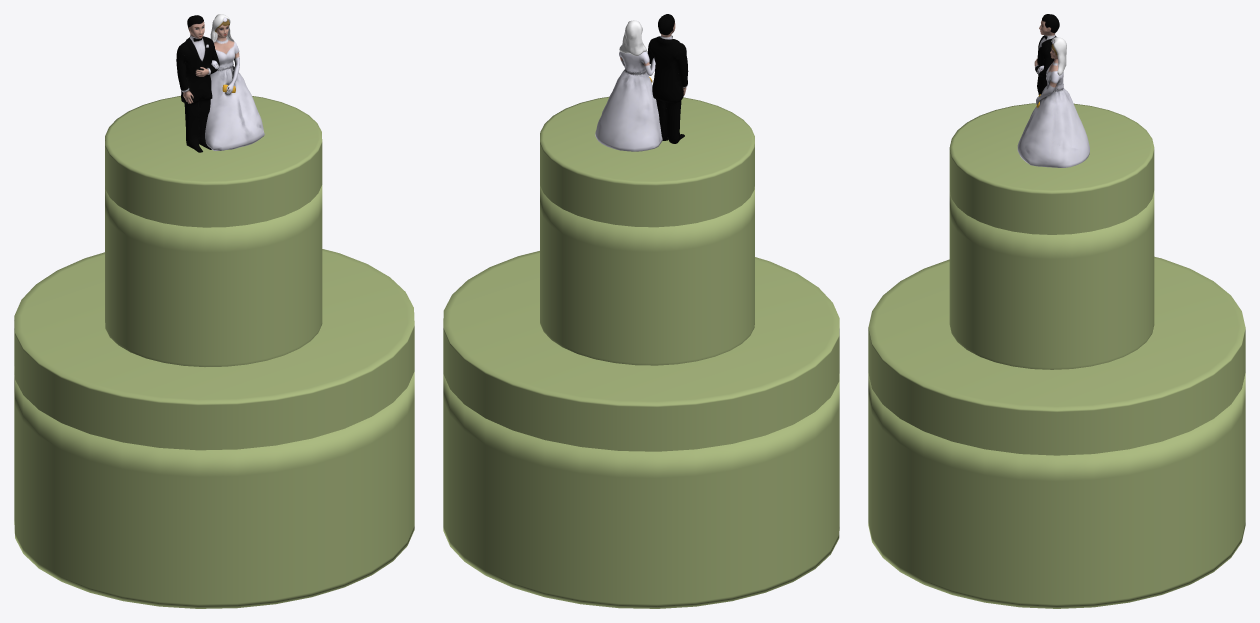
The model's file is 2-tier-pistage-none-bridegroom.glb.
The picture shows the model from 3 angles, left to right: view 1: azimuth 30°, elevation 25°; view 2: azimuth 150°, elevation 25°; view 3: azimuth 270°, elevation 25°; orthographic projection. The views are drawn at different scales.
Visible parts, largest first — view 1: Cylinder.023, Cylinder.013, 13501_Cake_Topper_Bride_Groom_v1_L1.003; view 2: Cylinder.023, Cylinder.013, 13501_Cake_Topper_Bride_Groom_v1_L1.003; view 3: Cylinder.023, Cylinder.013, 13501_Cake_Topper_Bride_Groom_v1_L1.003.
Part boxes in pixels (x1,y1,x2,y2): Cylinder.023: (14,249,414,608); Cylinder.013: (105,96,322,366); 13501_Cake_Topper_Bride_Groom_v1_L1.003: (176,14,264,152); Cylinder.023: (443,251,839,608); Cylinder.013: (540,97,754,365); 13501_Cake_Topper_Bride_Groom_v1_L1.003: (595,14,688,151); Cylinder.023: (868,256,1245,608); Cylinder.013: (949,103,1154,369); 13501_Cake_Topper_Bride_Groom_v1_L1.003: (1017,14,1089,167).
Size of the model in its own units: 3.4 by 4.79 by 3.27.
Materials: 2 (1 with a texture image).
